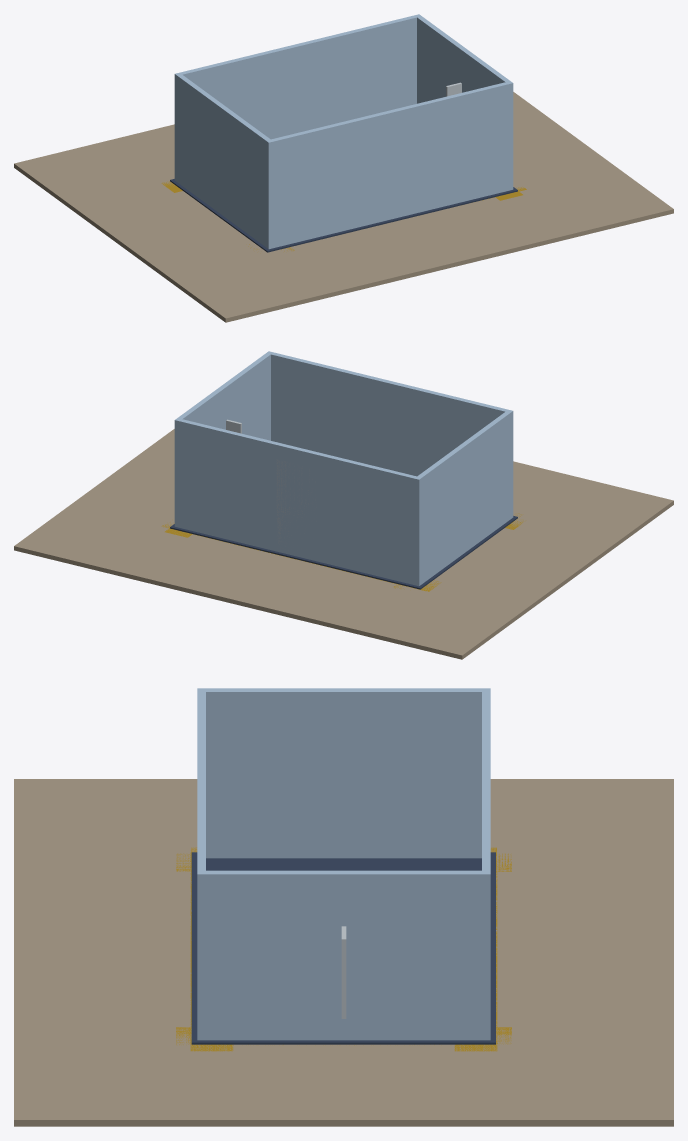
File: stage_07_openings.glb
3 renders of one model, top to bottom at view 1: azimuth 30°, elevation 25°; view 2: azimuth 150°, elevation 25°; view 3: azimuth 270°, elevation 25°, orthographic. The views are drawn at different scales.
Visible parts, largest first — view 1: world; view 2: world; view 3: world.
Part boxes in pixels (x1,y1,x2,y2): world: (14, 14, 673, 322); world: (14, 351, 673, 659); world: (14, 688, 673, 1126).
Bounding box in the file's own units: 11 × 3.33 × 9.
